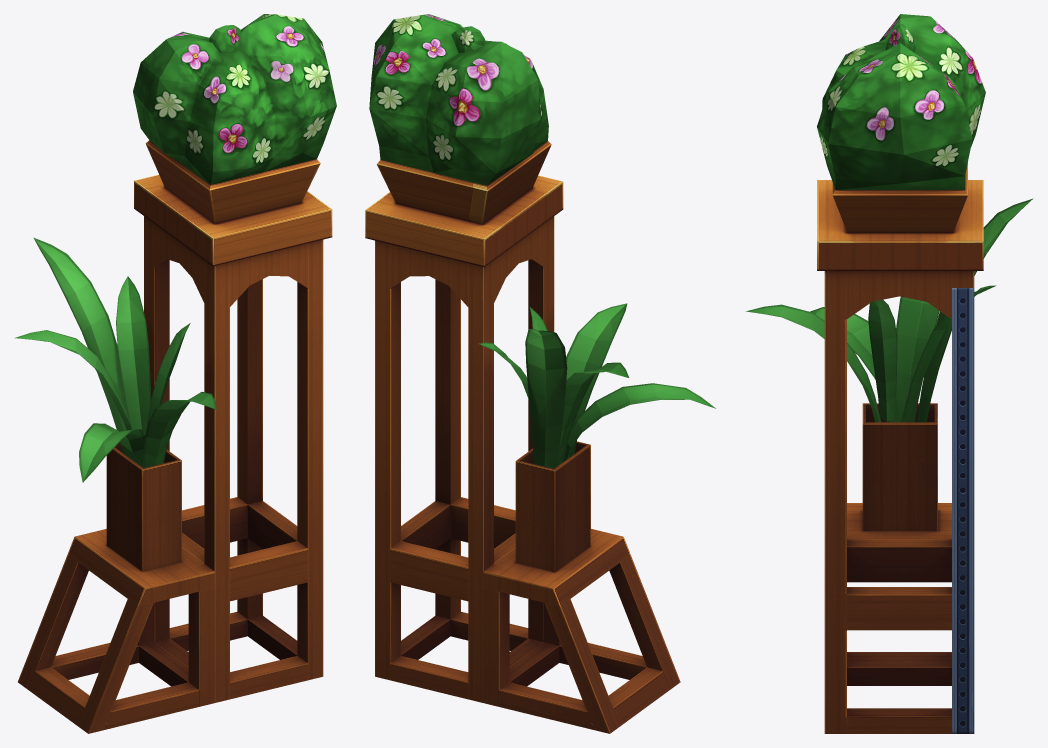
File: fence_004_01.FBX
3 views of the same model, side by side, from view 1: azimuth 30°, elevation 25°; view 2: azimuth 150°, elevation 25°; view 3: azimuth 270°, elevation 25° (orthographic). The views are drawn at different scales.
Visible parts, largest first — view 1: fence_004_01; view 2: fence_004_01; view 3: fence_004_01.
Boxes of the visible parts, bbox=[...] form: fence_004_01: bbox=[14, 14, 336, 733]; fence_004_01: bbox=[365, 14, 715, 733]; fence_004_01: bbox=[745, 14, 1033, 733].
Size of the model in its own units: 1350 by 2821 by 1090.
